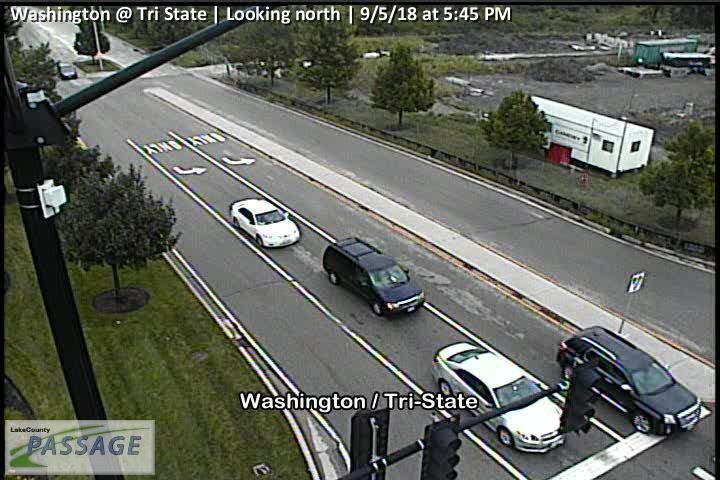SUV: (556, 324, 703, 438), (321, 236, 426, 322), (57, 60, 78, 80)
Sedan: (430, 340, 570, 454), (230, 197, 302, 250)
